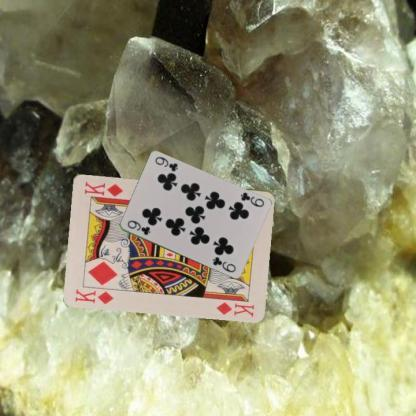9c: (238, 190, 265, 209), (124, 218, 152, 236)
Kd: (73, 286, 115, 305)
